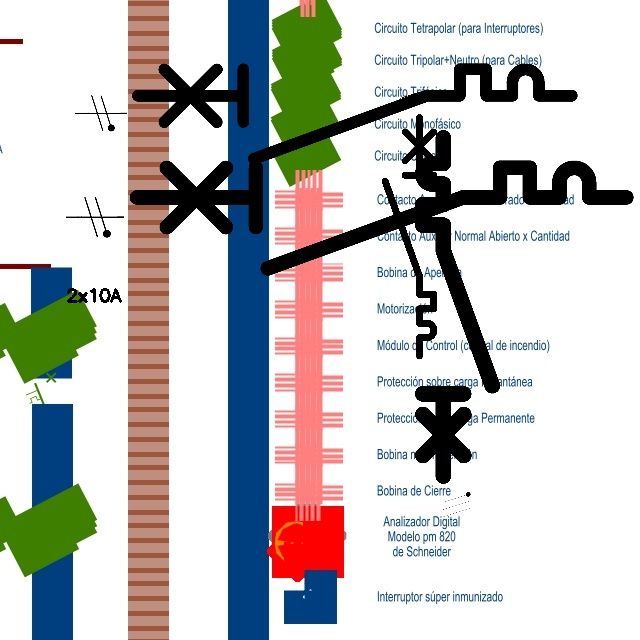interruptor_termomagnetico: (124, 155, 639, 281), (126, 58, 583, 169), (414, 129, 501, 485), (379, 111, 440, 361)
